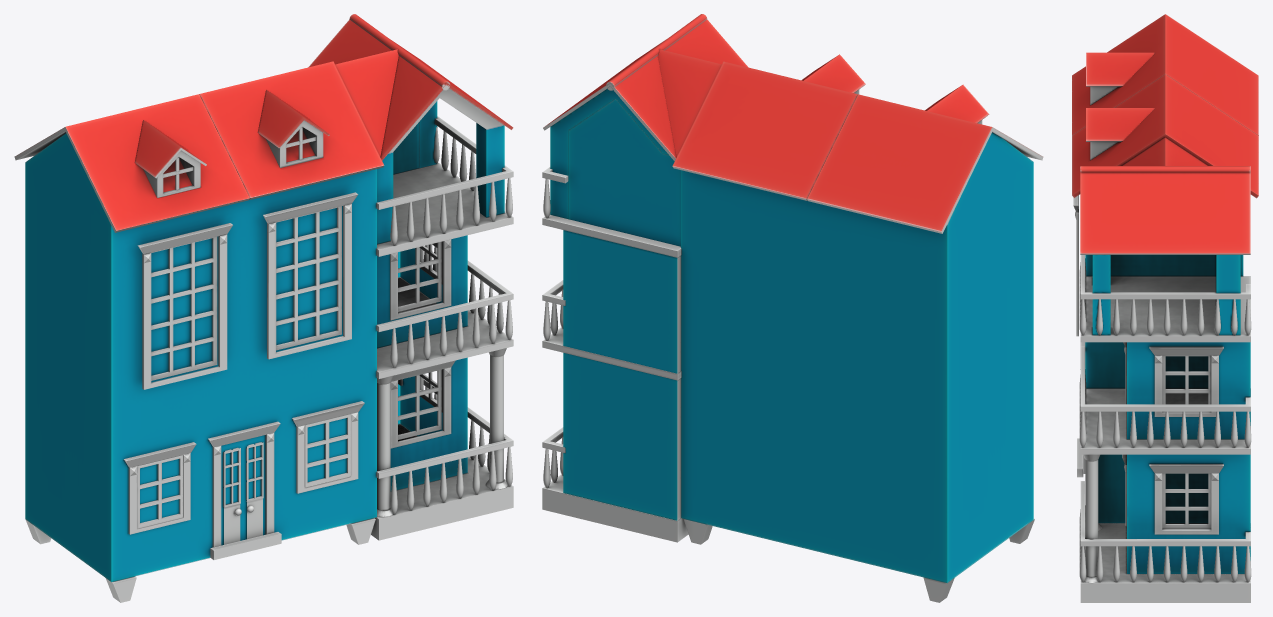
Rendered from 3D_House.FBX.
The picture shows the model from 3 angles, left to right: view 1: azimuth 30°, elevation 25°; view 2: azimuth 150°, elevation 25°; view 3: azimuth 270°, elevation 25°; orthographic projection. The views are drawn at different scales.
Parts seen in each view (by area): view 1: 3D_House; view 2: 3D_House; view 3: 3D_House.
Boxes of the visible parts, left/top/right/bottom form: 3D_House: left=14, top=14, right=513, bottom=602; 3D_House: left=542, top=14, right=1043, bottom=602; 3D_House: left=1072, top=14, right=1258, bottom=602.
Bounding box in the file's own units: 107 × 114 × 47.1.
